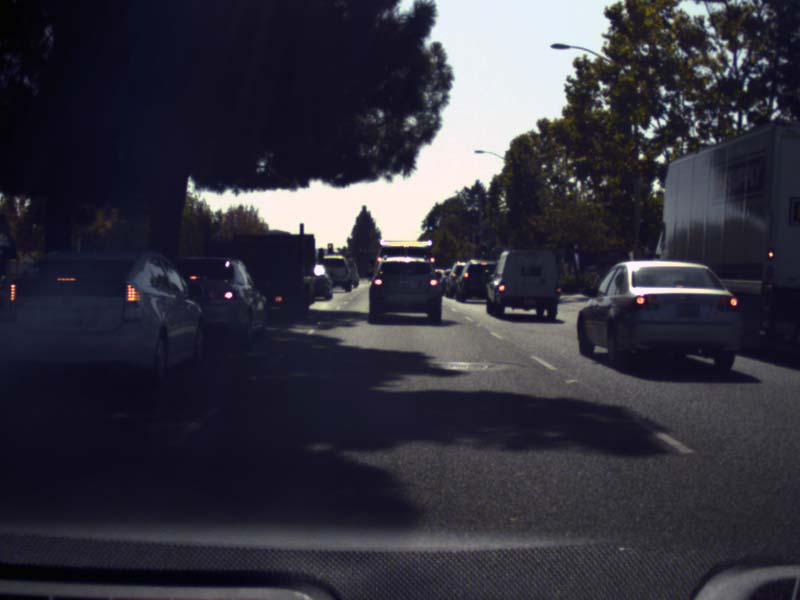Green: (427, 217, 435, 232), (480, 245, 487, 257), (491, 246, 494, 253)
Yellow: (327, 242, 333, 254)
